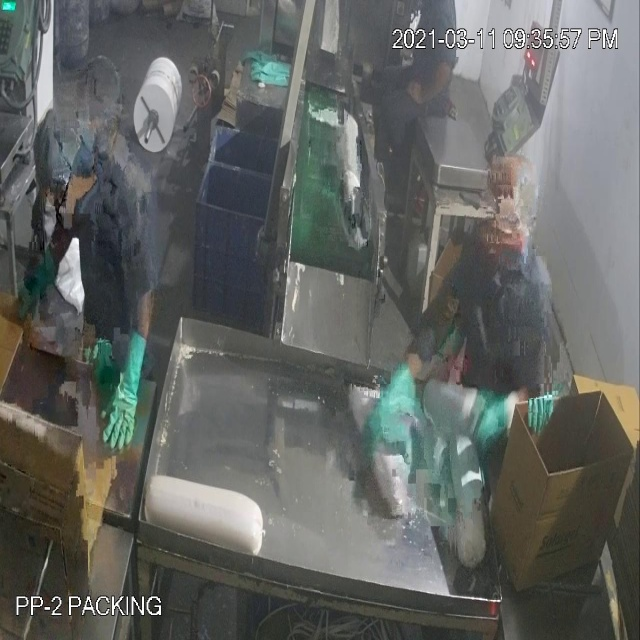Sin_guantes: (408, 53, 456, 117)
